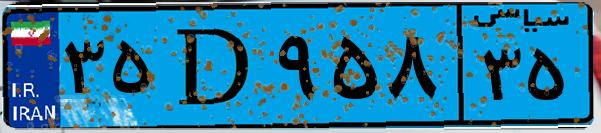3: (57, 26, 110, 100), (475, 38, 525, 113)
5: (330, 28, 385, 110), (525, 38, 570, 115), (110, 28, 158, 98)
8: (385, 28, 445, 110)
9: (270, 28, 330, 110)
D: (158, 12, 270, 120)
